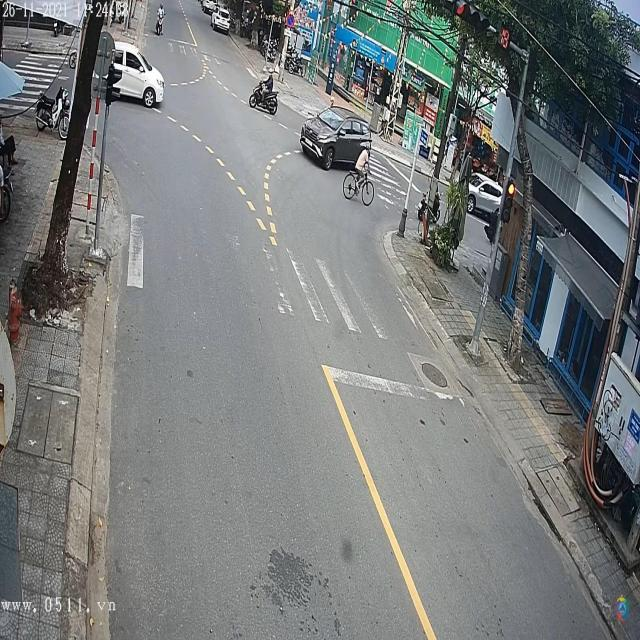car: (299, 108, 373, 171), (108, 42, 165, 110), (467, 171, 510, 224), (200, 2, 219, 15)
motorcycle: (248, 72, 279, 114)
